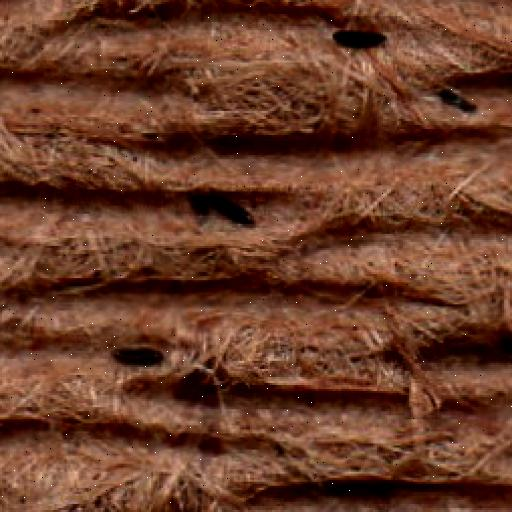egg: (209, 195, 253, 224), (113, 346, 164, 367), (333, 31, 387, 50), (435, 89, 472, 112)
